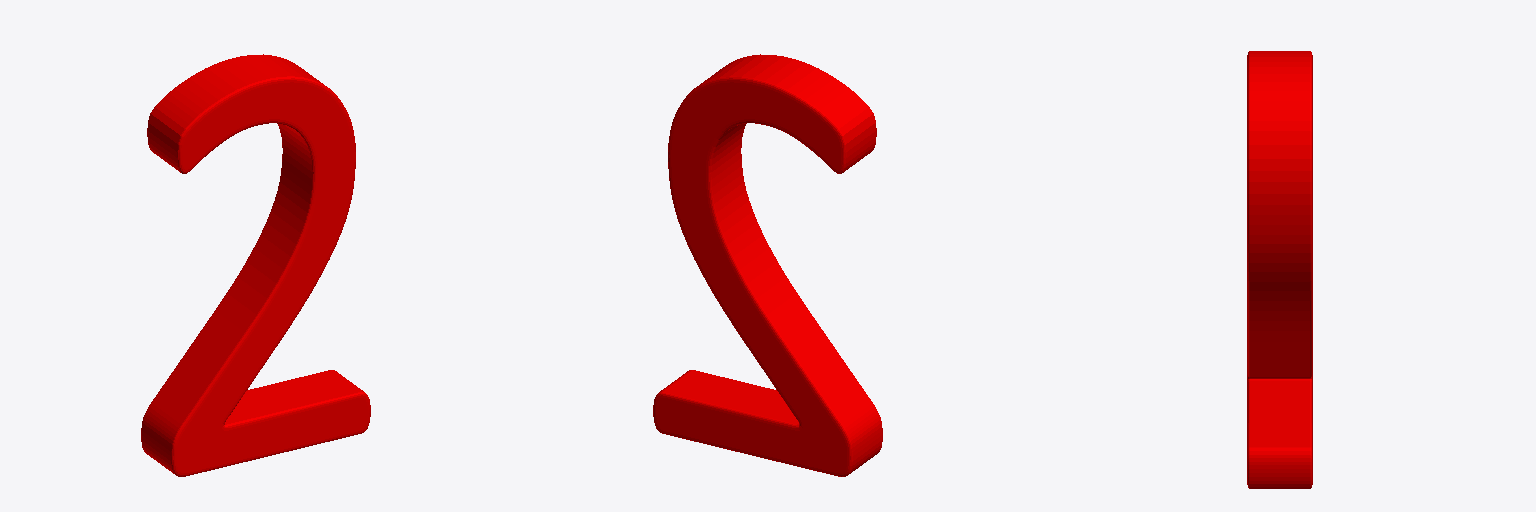
The picture shows the model from 3 angles: view 1: azimuth 30°, elevation 25°; view 2: azimuth 150°, elevation 25°; view 3: azimuth 270°, elevation 25°; orthographic projection.
Visible parts, largest first — view 1: two; view 2: two; view 3: two.
Part boxes in pixels (x1,y1,x2,y2): two: (141, 54, 370, 476); two: (653, 54, 882, 476); two: (1247, 51, 1312, 488).
Bounding box in the file's own units: 0.2844 × 0.5149 × 0.0806.